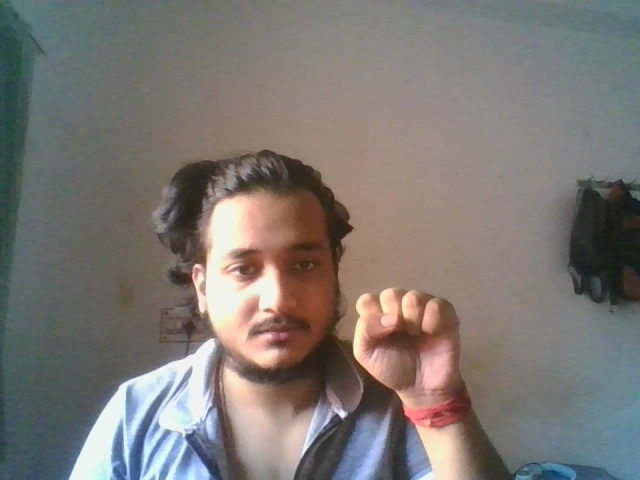Close: (350, 287, 463, 393)
